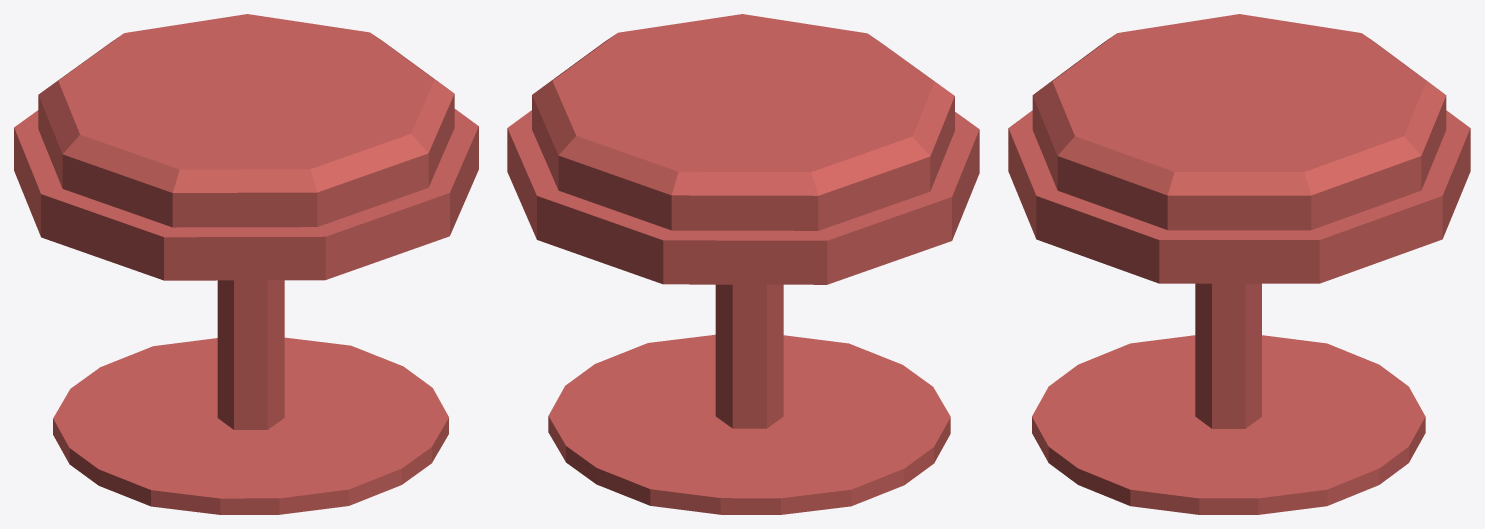
Rendered from chair_redo.fbx.
The picture shows the model from 3 angles, left to right: view 1: azimuth 30°, elevation 25°; view 2: azimuth 150°, elevation 25°; view 3: azimuth 270°, elevation 25°; orthographic projection.
Visible parts, largest first — view 1: Cylinder.015; view 2: Cylinder.015; view 3: Cylinder.015.
Part boxes in pixels (x1=…): Cylinder.015: x1=14, y1=14, x2=478, y2=514; Cylinder.015: x1=507, y1=14, x2=979, y2=514; Cylinder.015: x1=1008, y1=14, x2=1470, y2=514.
Size of the model in its own units: 72.5 by 58.53 by 72.54.
